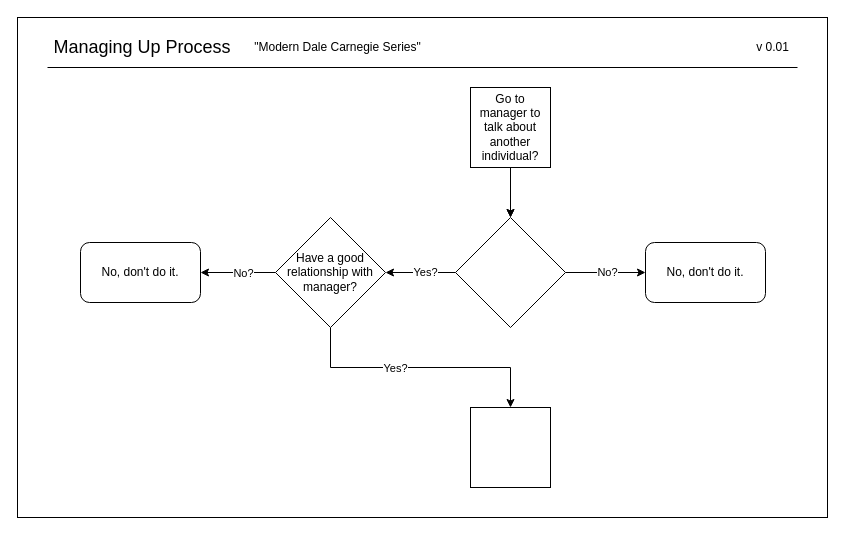
Image size: 845x535. Some labels were removed from this diagram. Each missing label, with the centre of its shape:
"Go and do it, carefully" belongs at (510,447).
"Speak to person first?" belongs at (510,272).
